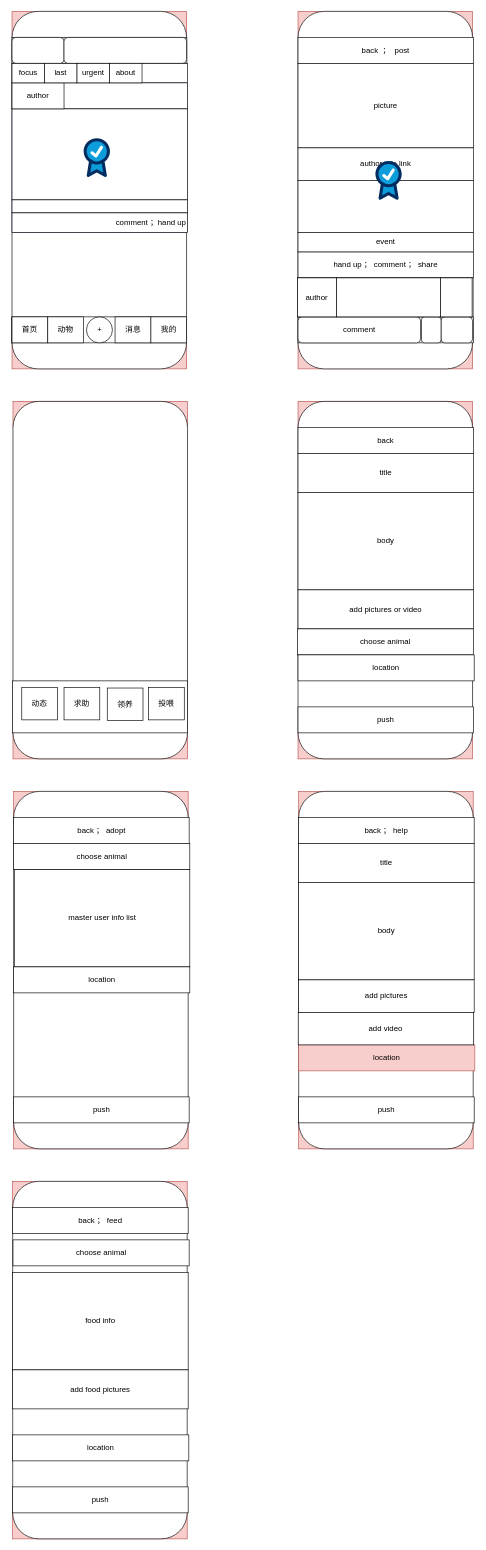
This 486x1550 diagram has some shape labels left out. The centre of each missing label's shape, as x and y in pixels:
"add pic" belongs at point (431, 329).
"comment context" belongs at point (388, 297).
"hand up" belongs at point (456, 297).
"send" belongs at point (456, 329).
"time ; topic" belongs at point (99, 206).
"time title body topic" belongs at point (385, 206).
